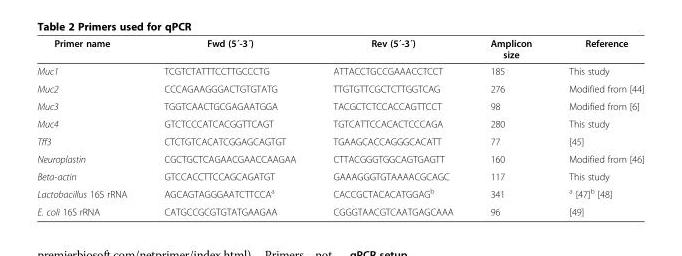table: (36, 37, 643, 216)
table column: (144, 37, 314, 216), (314, 37, 471, 216), (36, 37, 144, 216), (549, 37, 643, 216), (471, 37, 549, 216)
table column header: (36, 37, 643, 62)
table row: (36, 37, 643, 62), (36, 79, 643, 97), (36, 114, 643, 132), (36, 149, 643, 167), (36, 184, 643, 202), (36, 62, 643, 79), (36, 97, 643, 114), (36, 132, 643, 149), (36, 167, 643, 184), (36, 202, 643, 216)
